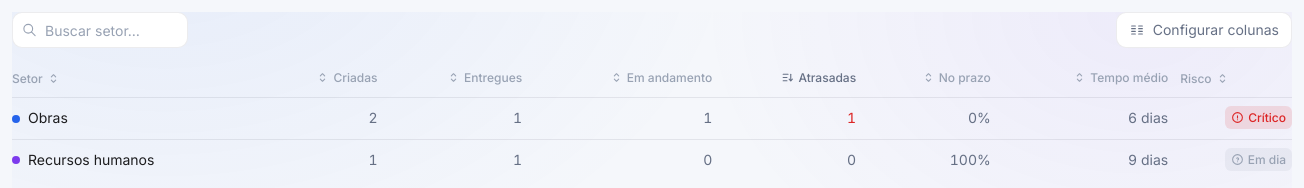
Test: SectorDetailTable › busca sem resultado explica, em vez de mostrar tabela vazia
Step 1. Type "jurídico" into the search field → point(100, 30), box [12, 12, 188, 48]
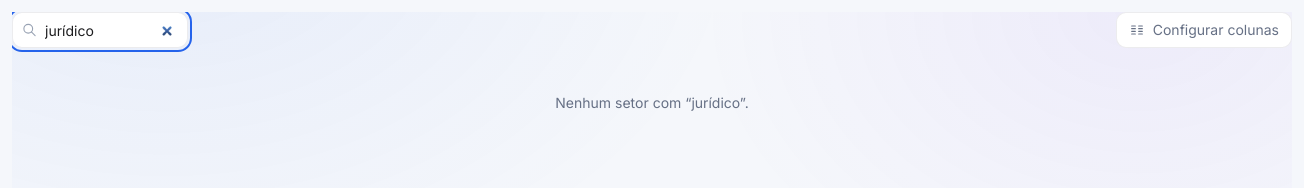
Now the text "Nenhum setor com “jurídico”." is shown, box [555, 94, 749, 111]
